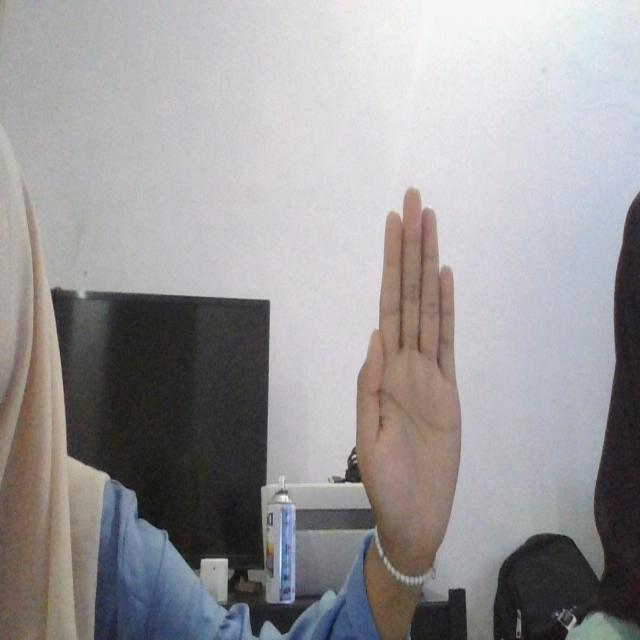hand: (354, 186, 464, 574)
